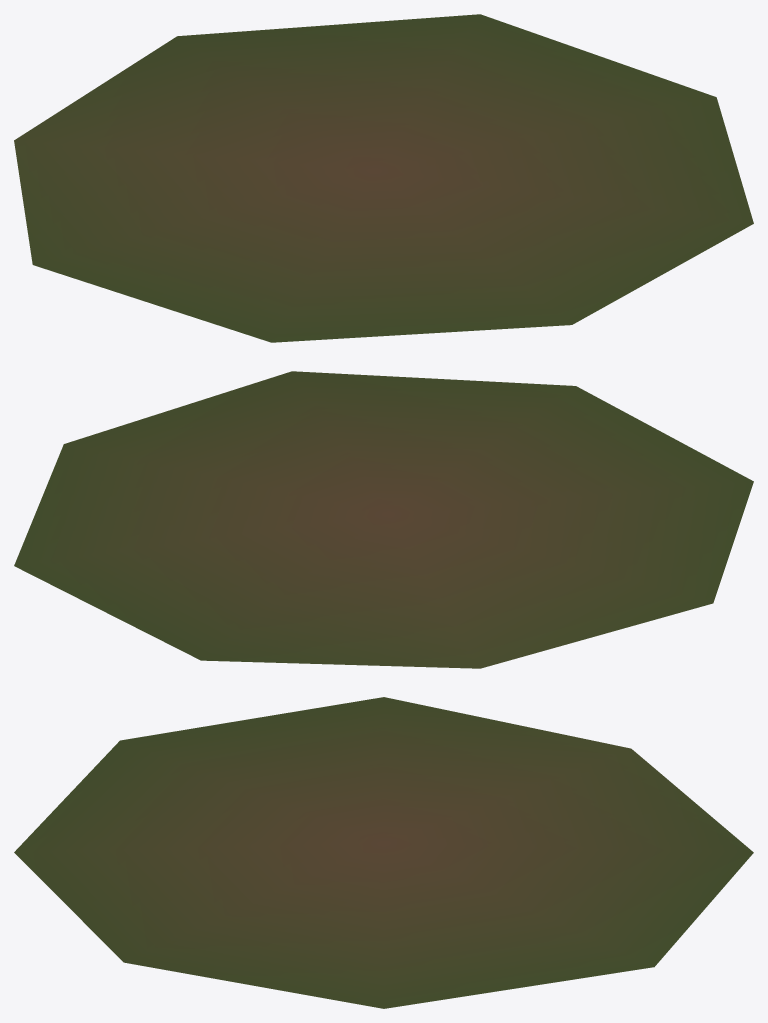
The model's file is soil-patch-b.lod2.glb.
The picture shows the model from 3 angles, top to bottom: view 1: azimuth 30°, elevation 25°; view 2: azimuth 150°, elevation 25°; view 3: azimuth 270°, elevation 25°; orthographic projection. The views are drawn at different scales.
Bounding box in the file's own units: 1.8 × 0.0267 × 1.8.
